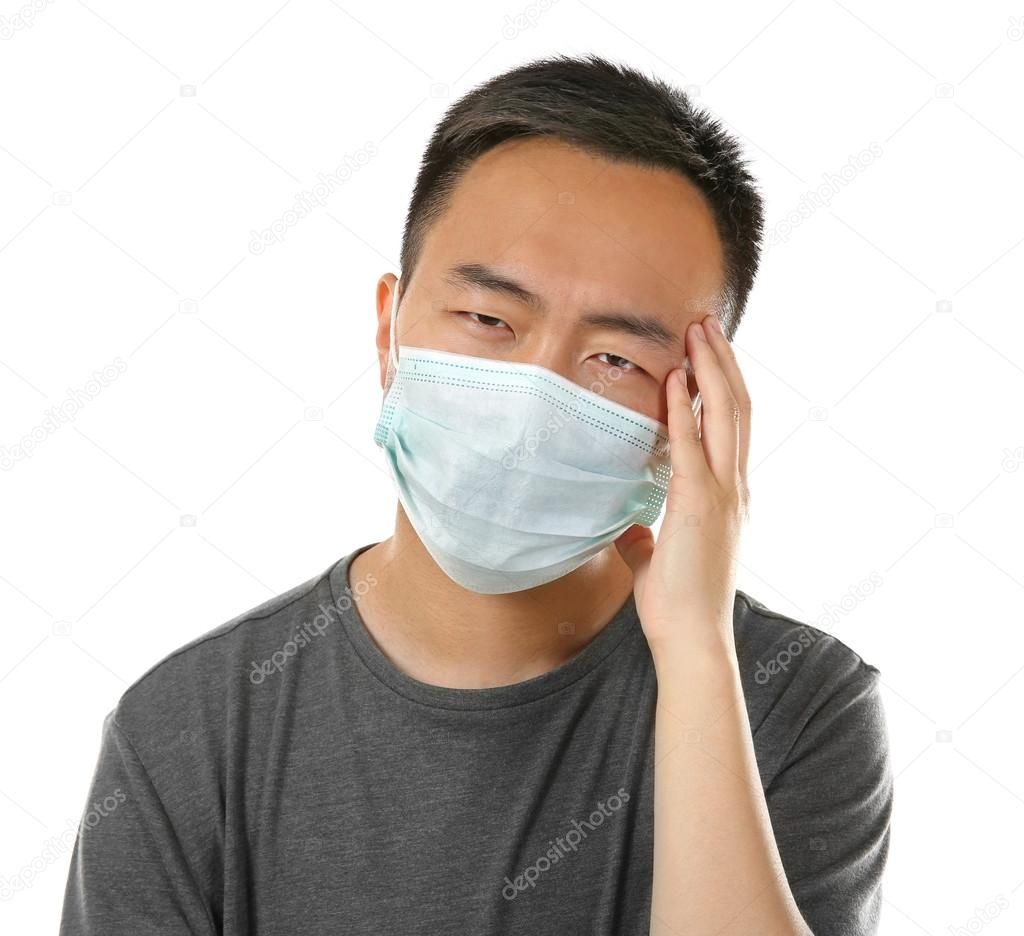mask: (370, 353, 669, 590)
